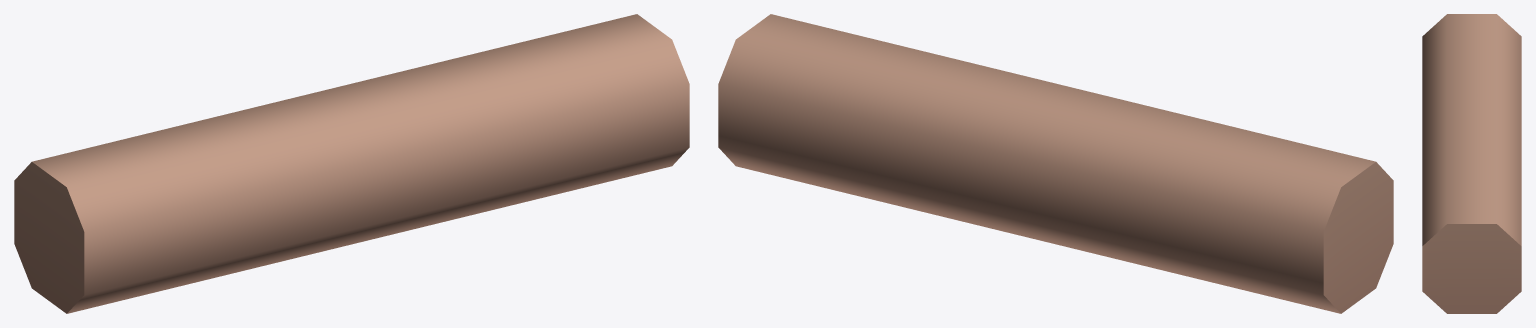
The model's file is planks-rod-rounded.glb.
3 views of the same model, side by side, from view 1: azimuth 30°, elevation 25°; view 2: azimuth 150°, elevation 25°; view 3: azimuth 270°, elevation 25° (orthographic). The views are drawn at different scales.
Visible parts, largest first — view 1: planks-rod-rounded; view 2: planks-rod-rounded; view 3: planks-rod-rounded.
Boxes of the visible parts, x1,y1,x2,y2 form: planks-rod-rounded: (14, 14, 689, 313); planks-rod-rounded: (718, 14, 1393, 313); planks-rod-rounded: (1422, 14, 1521, 313).
Bounding box in the file's own units: 0.5 × 0.1 × 0.1.
